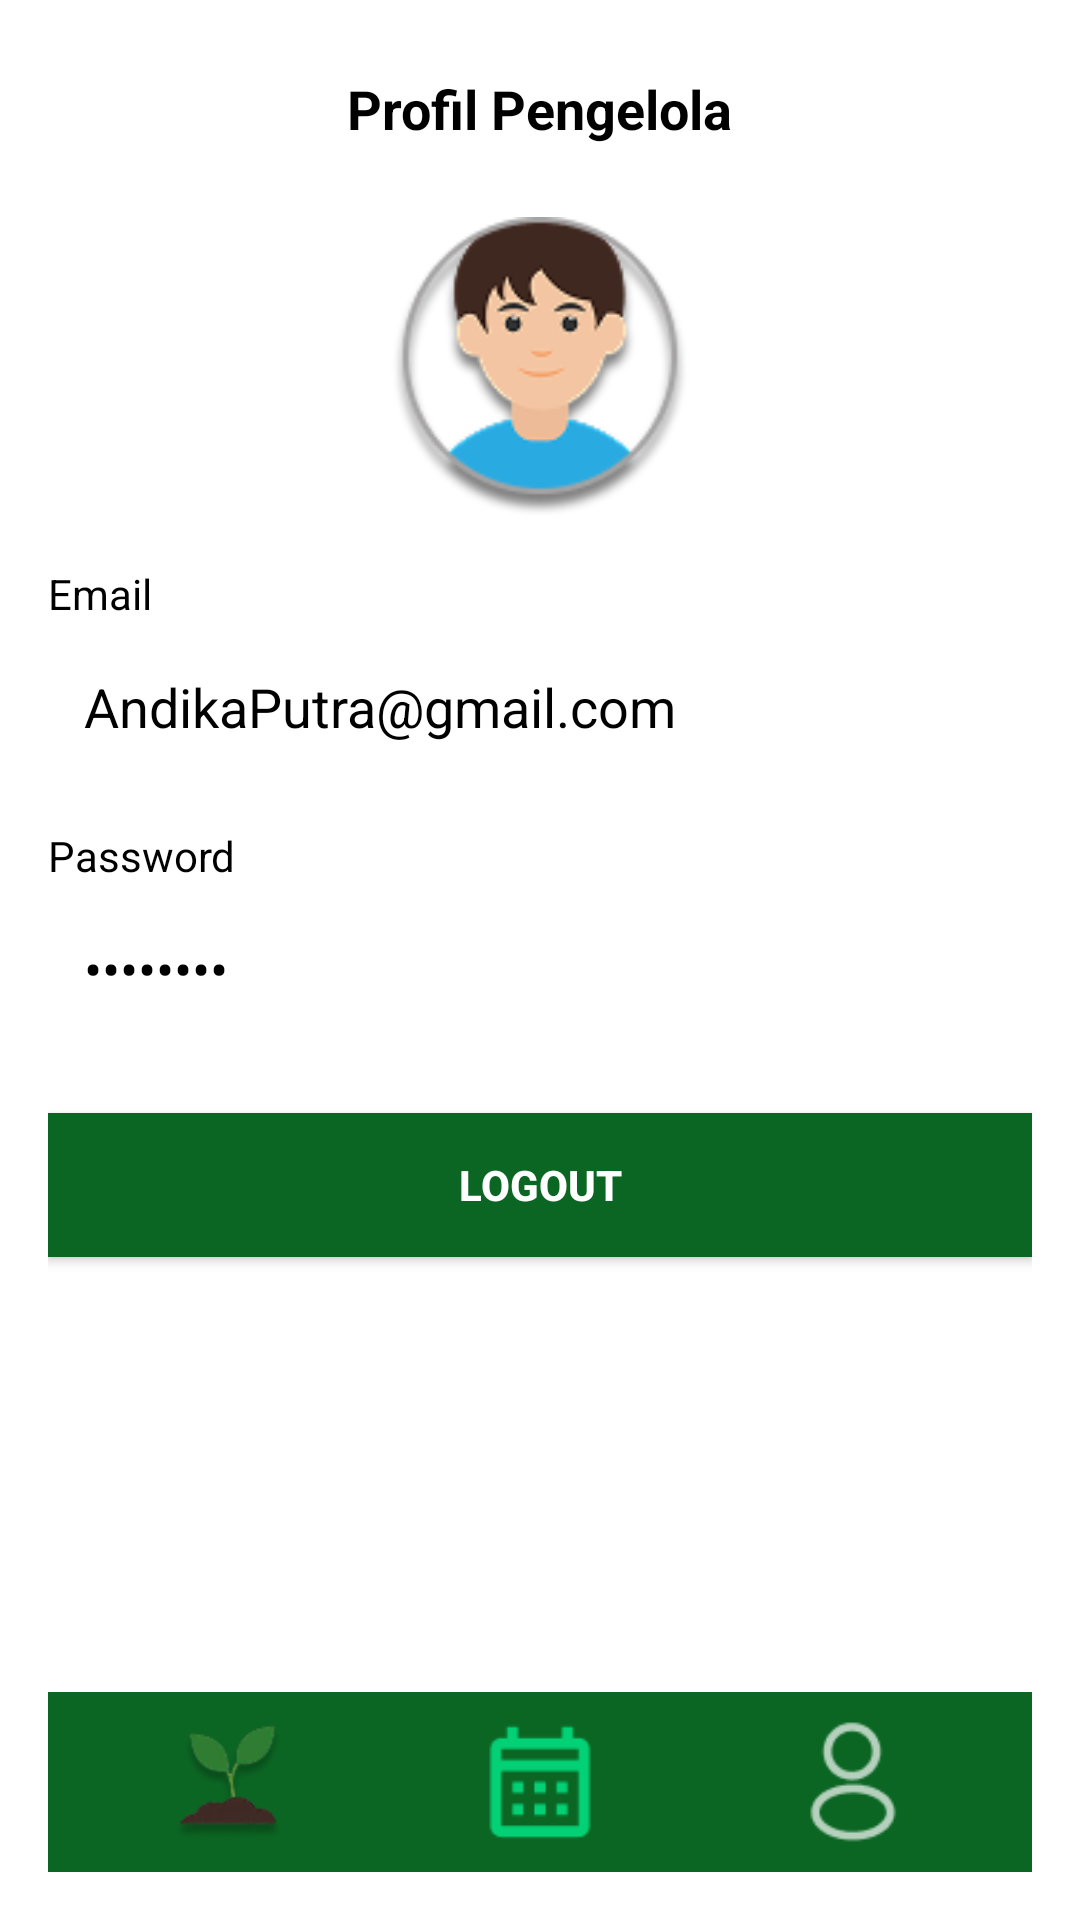

Where icons sit on this 1080x1920 app screen, as region(x1, y1, x2, y2):
Calendar: region(489, 1726, 591, 1838)
Profil: region(810, 1722, 896, 1842)
